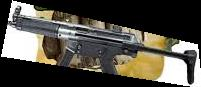gun: (1, 0, 201, 87)
